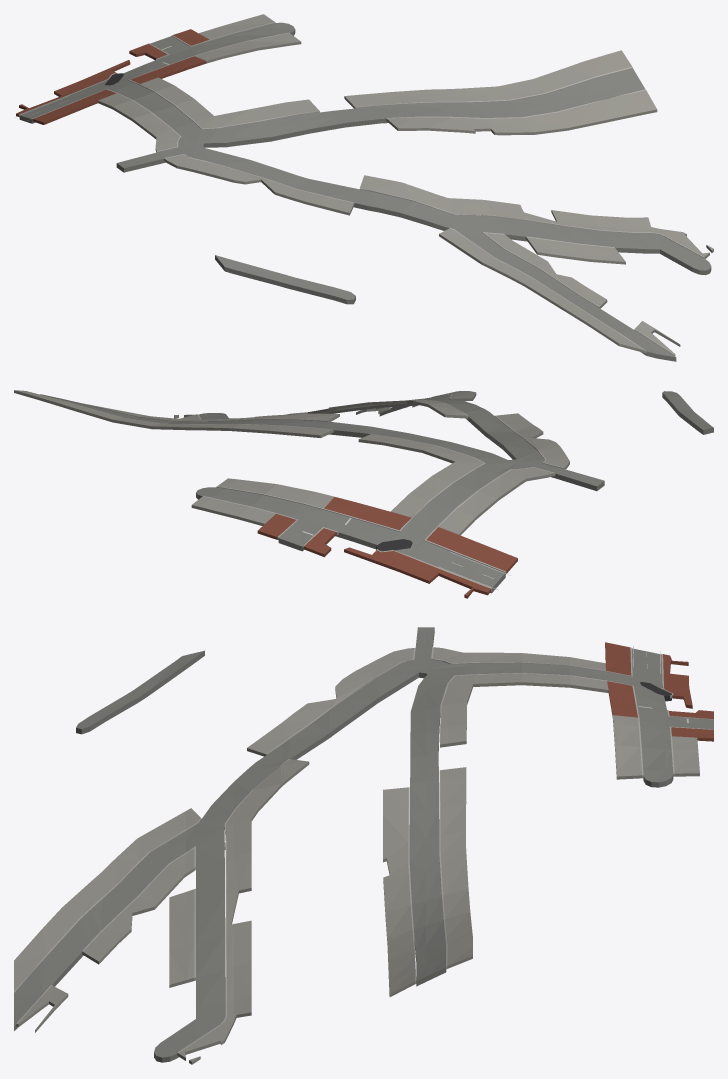
3 views of the same model, one above another, from view 1: azimuth 30°, elevation 25°; view 2: azimuth 150°, elevation 25°; view 3: azimuth 270°, elevation 25° (orthographic). The views are drawn at different scales.
Bounding box in the file's own units: 148 × 45.45 × 146.
